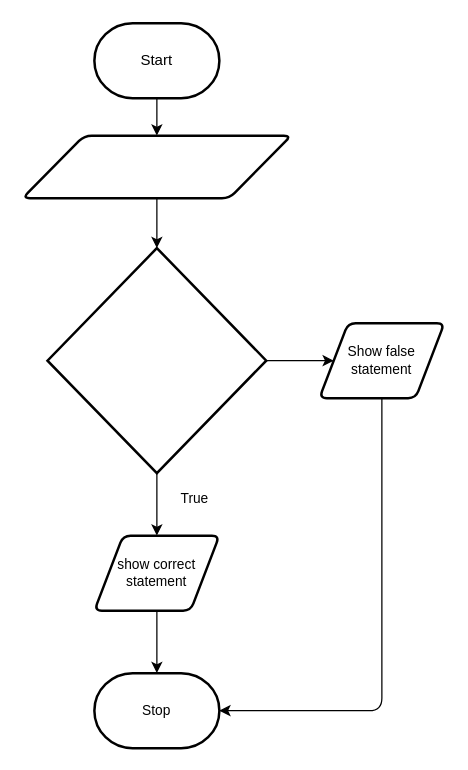
Image size: 468x770. Some labels were removed from this diagram. The box of each missing label's shape, as (x1, y1, x2, y2) in pixels:
Grab random number from user: (21, 134, 292, 199)
user random number is equal to computers random number: (46, 246, 267, 474)
